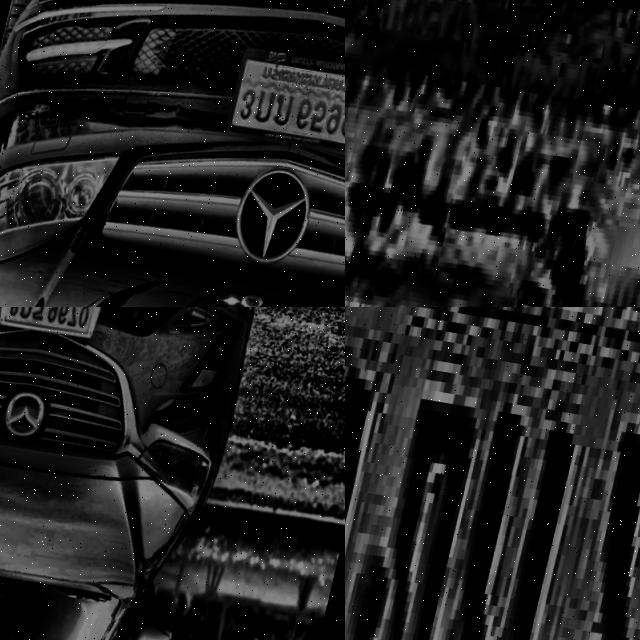license-plate: (345, 307, 640, 640), (345, 31, 640, 307), (219, 42, 345, 163), (0, 307, 113, 352)
